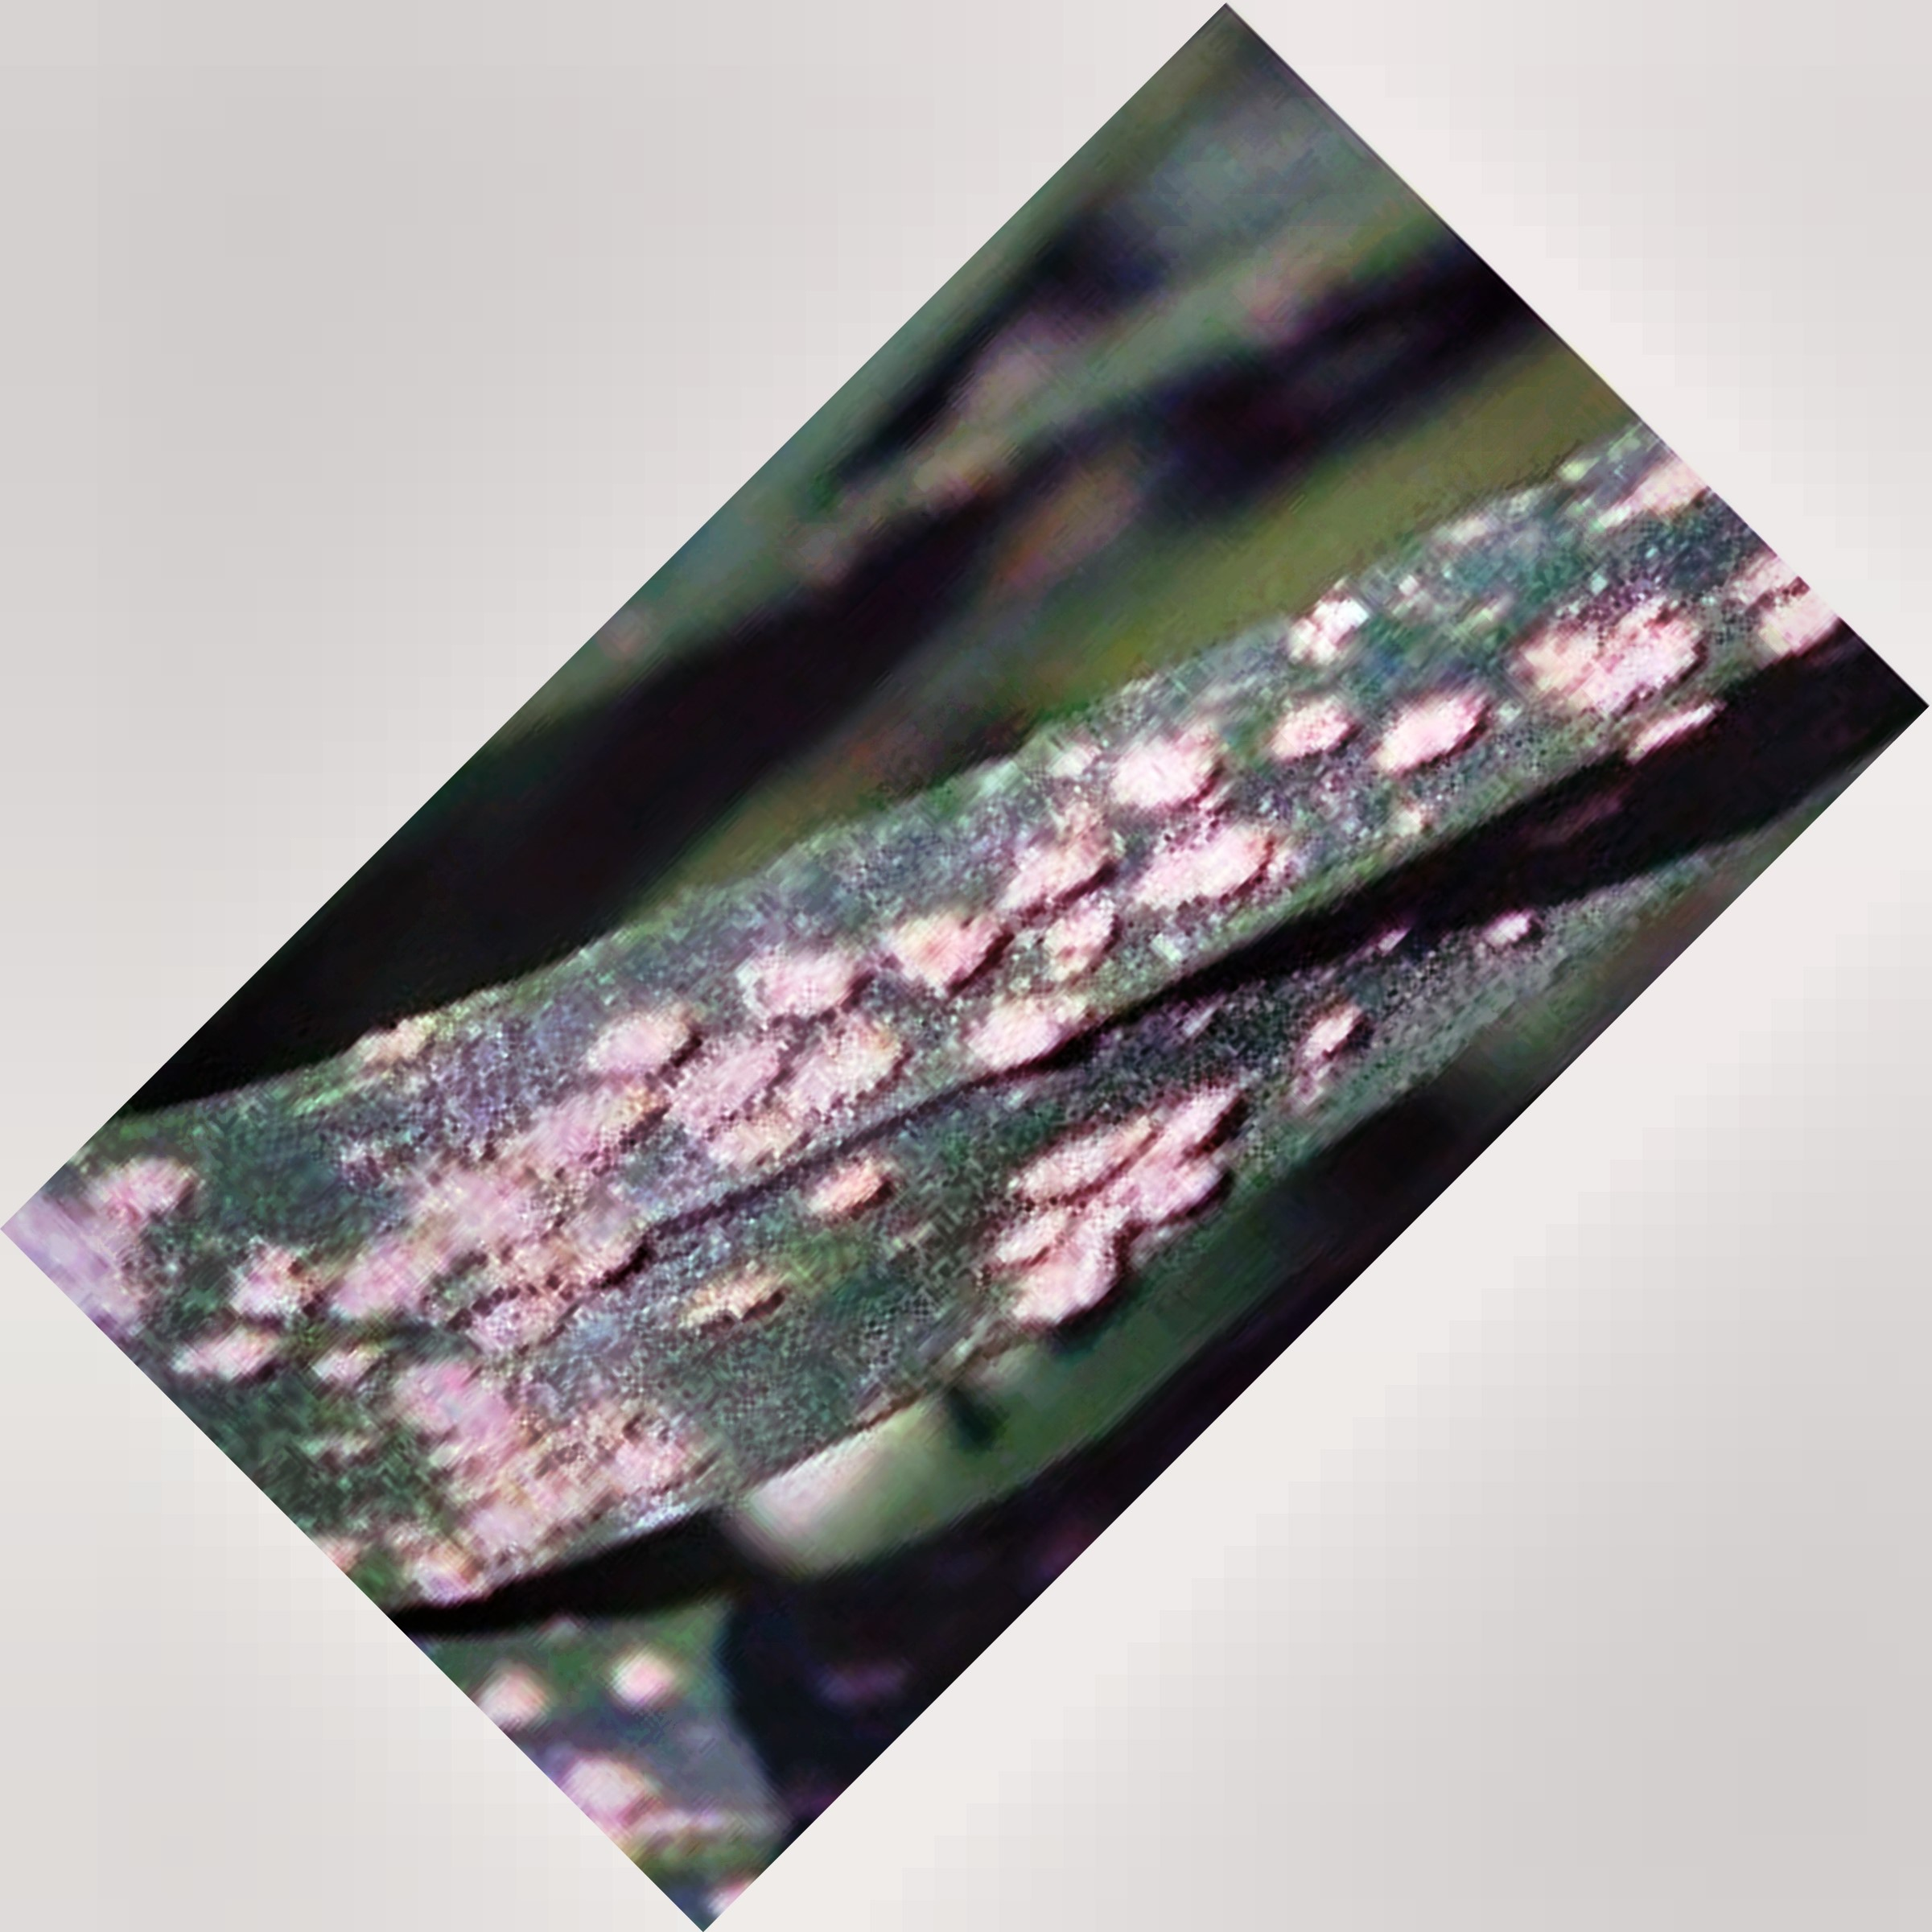Powdery Mildew: (326, 495, 1679, 1537)
